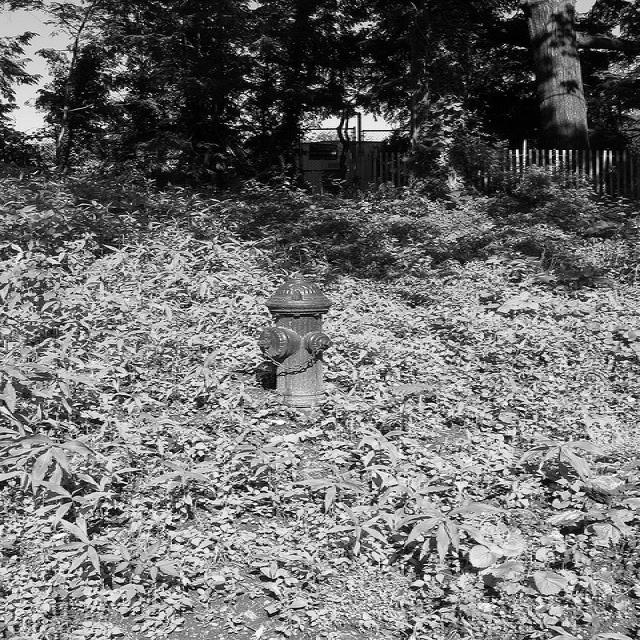fire_hydrant: (256, 271, 333, 405)
